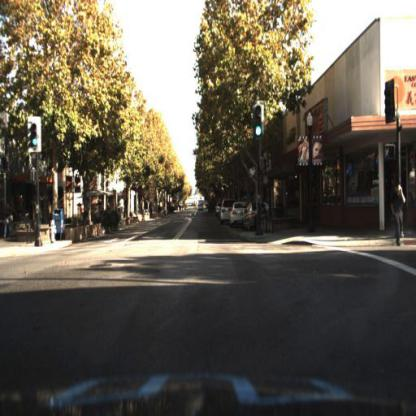car: (242, 201, 269, 232), (231, 208, 251, 240), (219, 193, 236, 227), (232, 203, 246, 226), (222, 201, 231, 224)
pedestrian: (392, 183, 408, 248), (391, 181, 406, 246), (256, 204, 268, 246), (4, 202, 13, 248)
trafficLight: (254, 104, 265, 142)
trafficLight-Green: (29, 118, 38, 153)
